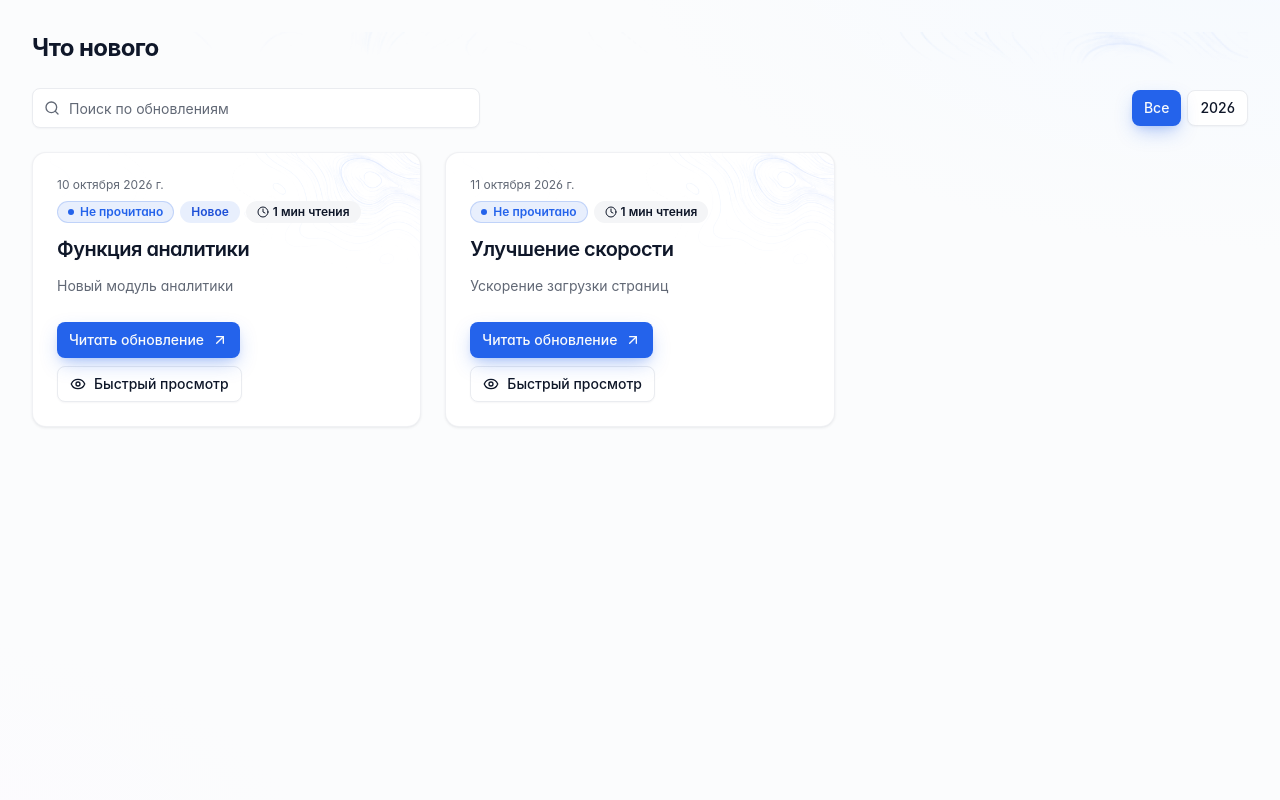
marks only the opened post as read and keeps other updates unread
The image size is (1280, 800).
Expected: the link "Функция аналитики" is shown, [57,237,249,261]
Expected: the text "Не прочитано" is shown 2 times, [57,201,174,223]; [470,201,588,223]
Click the button "Быстрый просмотр" below "Новый модуль аналитики": (149, 384) [57,366,242,402]
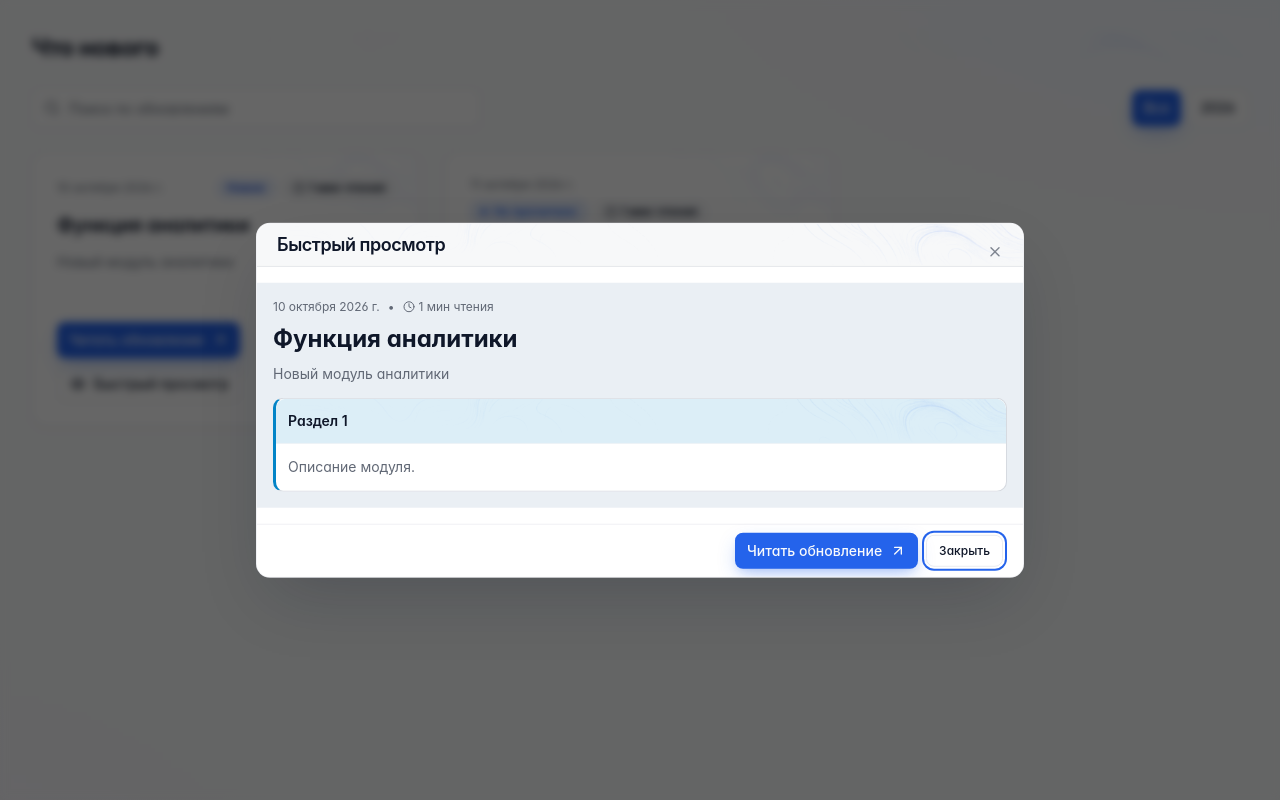
Click the button "Закрыть": (965, 550) [926,534,1003,566]
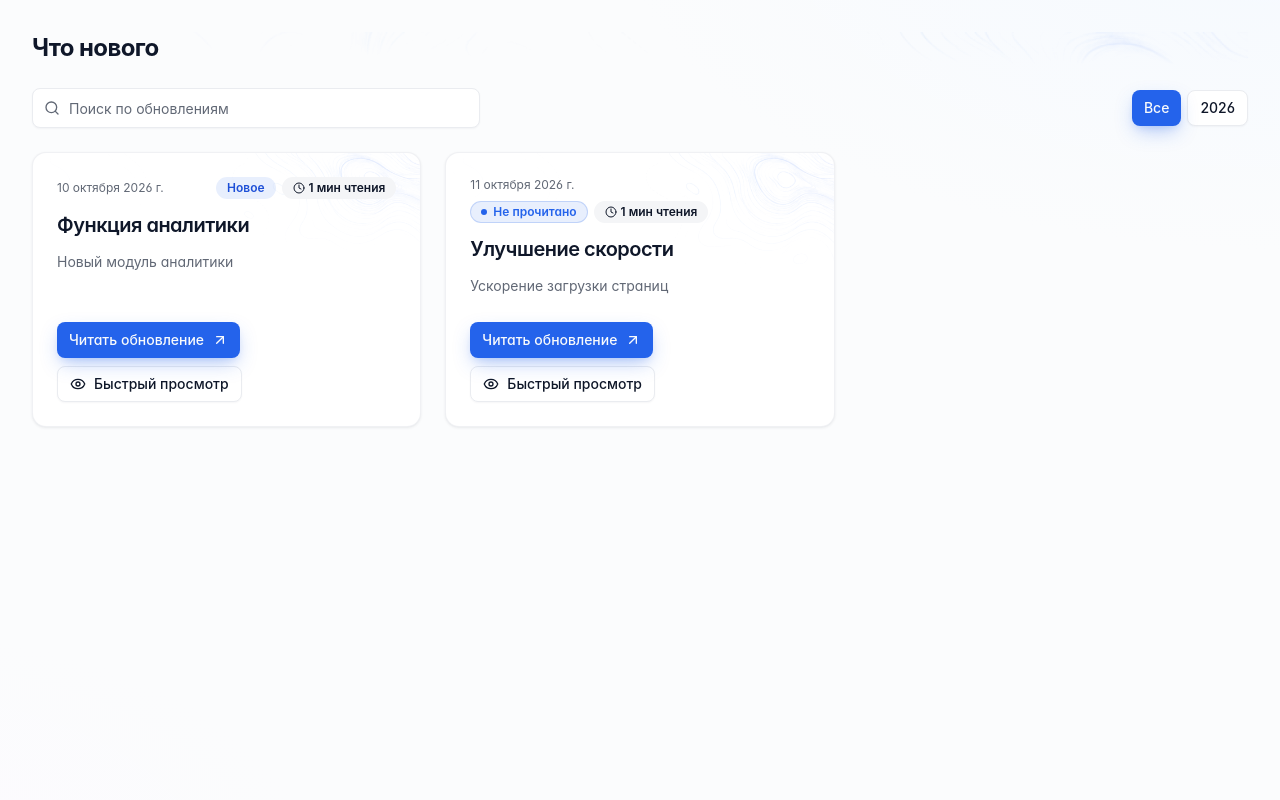
Expected: the text "Не прочитано" is shown once, [470,201,588,223]
Expected: the dialog is gone
